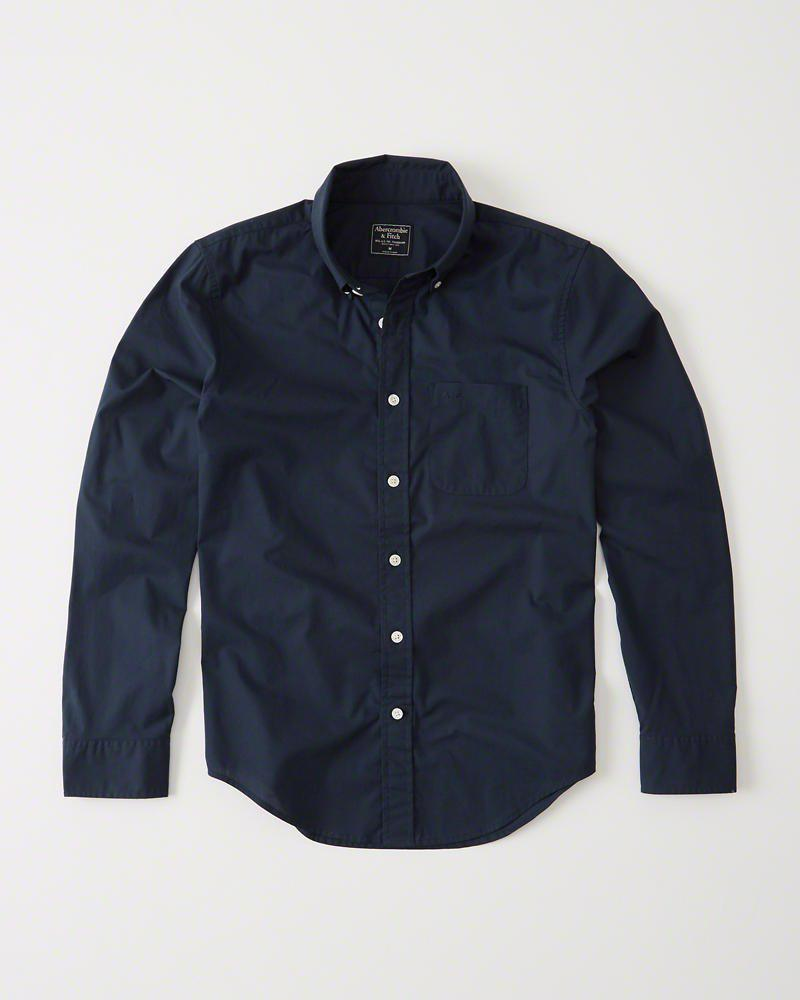teeshirt: (42, 154, 759, 848)
